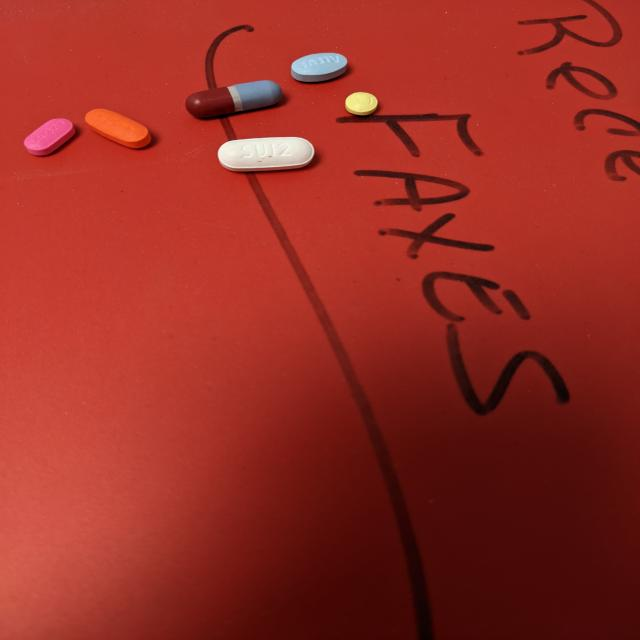non-organic waste: (184, 78, 284, 120), (216, 135, 315, 173), (84, 108, 152, 149), (23, 116, 76, 157), (289, 51, 349, 84), (344, 91, 379, 118)
